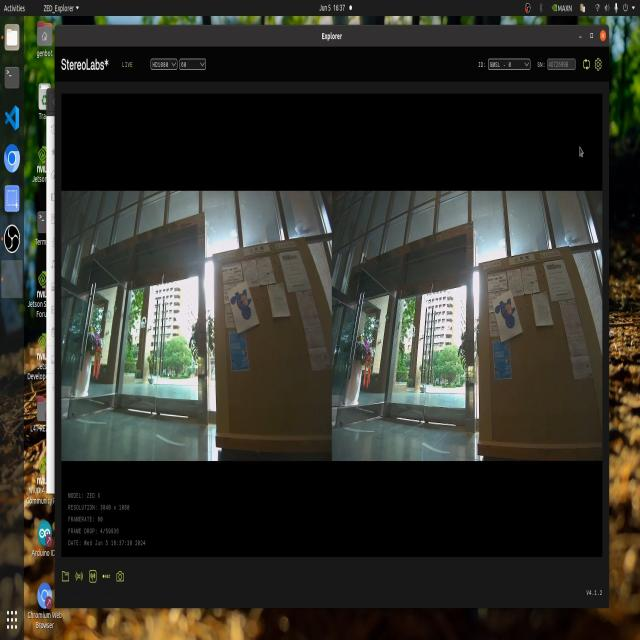blue: (220, 292, 267, 328), (487, 290, 515, 340)
